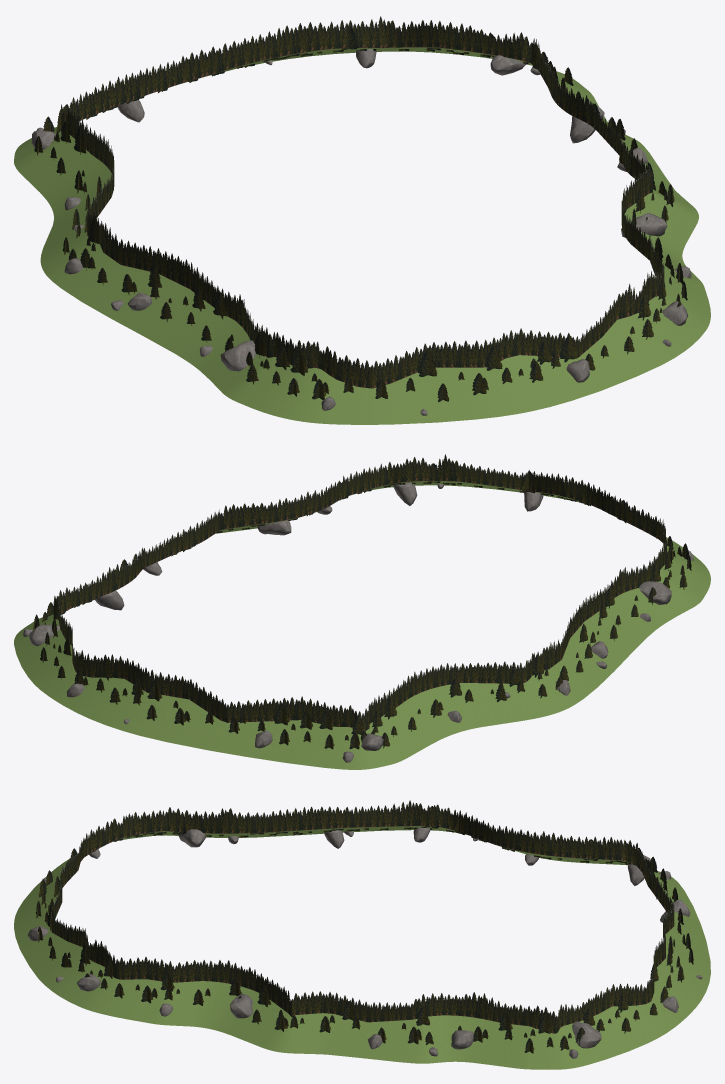
3 views of the same model, one above another, from view 1: azimuth 30°, elevation 25°; view 2: azimuth 150°, elevation 25°; view 3: azimuth 270°, elevation 25° (orthographic). The views are drawn at different scales.
Parts seen in each view (by area): view 1: Wall_02, Wall_00, Wall_01, Wall_03, Wall_09, Wall_07, Wall_04, Wall_06, Wall_08, Wall_05, Trees_02, Trees_00 (+9 smaller); view 2: Wall_09, Wall_07, Wall_08, Wall_00, Wall_01, Wall_06, Wall_03, Wall_04, Wall_02, Wall_05, Trees_08, Trees_09 (+8 smaller); view 3: Wall_05, Wall_04, Wall_06, Wall_03, Wall_00, Wall_09, Wall_07, Wall_01, Wall_02, Wall_08, Trees_05, Trees_04 (+11 smaller).
Part boxes in pixels (box(x1,y1,x2,y2)): Wall_02: box(372, 328, 603, 424); Wall_00: box(48, 218, 242, 366); Wall_01: box(195, 299, 372, 424); Wall_03: box(578, 247, 710, 389); Wall_09: box(17, 110, 114, 276); Wall_07: box(176, 16, 384, 84); Wall_04: box(621, 150, 708, 299); Wall_06: box(383, 20, 589, 92); Wall_08: box(14, 60, 176, 169); Wall_05: box(540, 50, 679, 194); Trees_02: box(375, 335, 577, 402); Trees_00: box(68, 218, 227, 342); Wall_09: box(369, 653, 569, 760); Wall_07: box(53, 650, 227, 751); Wall_08: box(215, 696, 401, 769); Wall_00: box(536, 569, 660, 707); Wall_01: box(622, 518, 710, 625); Wall_06: box(14, 587, 79, 698); Wall_03: box(356, 454, 523, 493); Wall_04: box(206, 471, 363, 538); Wall_02: box(521, 470, 683, 547); Wall_05: box(39, 520, 206, 618); Trees_08: box(228, 703, 389, 749); Trees_09: box(372, 668, 547, 736); Wall_05: box(316, 992, 532, 1069); Wall_04: box(128, 958, 322, 1054); Wall_06: box(526, 980, 678, 1069); Wall_03: box(21, 917, 146, 1019); Wall_00: box(226, 800, 437, 837); Wall_09: box(432, 804, 627, 865); Wall_07: box(651, 905, 710, 1023); Wall_01: box(57, 807, 226, 867); Wall_02: box(14, 837, 83, 950); Wall_08: box(620, 839, 705, 937); Trees_05: box(319, 1001, 527, 1045); Trees_04: box(141, 971, 304, 1031).
Size of what is drawn, in the model's own units: 330 by 35.87 by 405.
